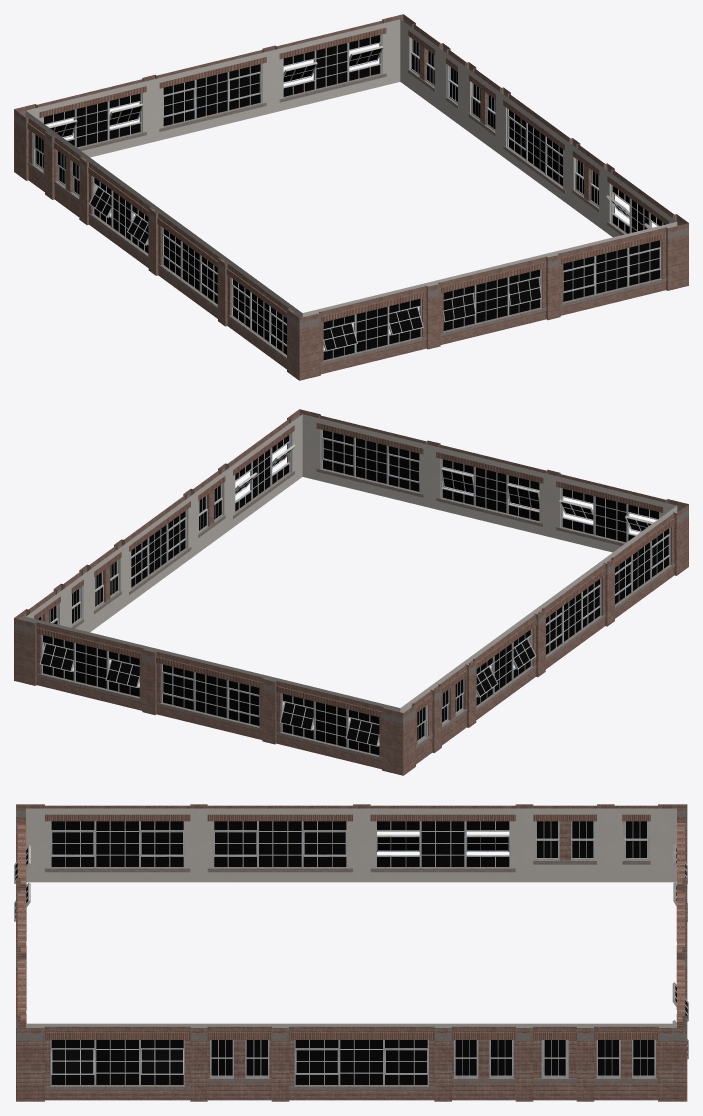
File: BuildingE_Mid_VarB.fbx
3 renders of one model, top to bottom at view 1: azimuth 30°, elevation 25°; view 2: azimuth 150°, elevation 25°; view 3: azimuth 270°, elevation 25°, orthographic. The views are drawn at different scales.
Visible parts, largest first — view 1: BuildingE_Mid_VarB; view 2: BuildingE_Mid_VarB; view 3: BuildingE_Mid_VarB.
Boxes of the visible parts, x1,y1,x2,y2 form: BuildingE_Mid_VarB: [14, 14, 688, 380]; BuildingE_Mid_VarB: [14, 409, 688, 775]; BuildingE_Mid_VarB: [14, 804, 688, 1101].
Bounding box in the file's own units: 2619 × 400 × 3317.
